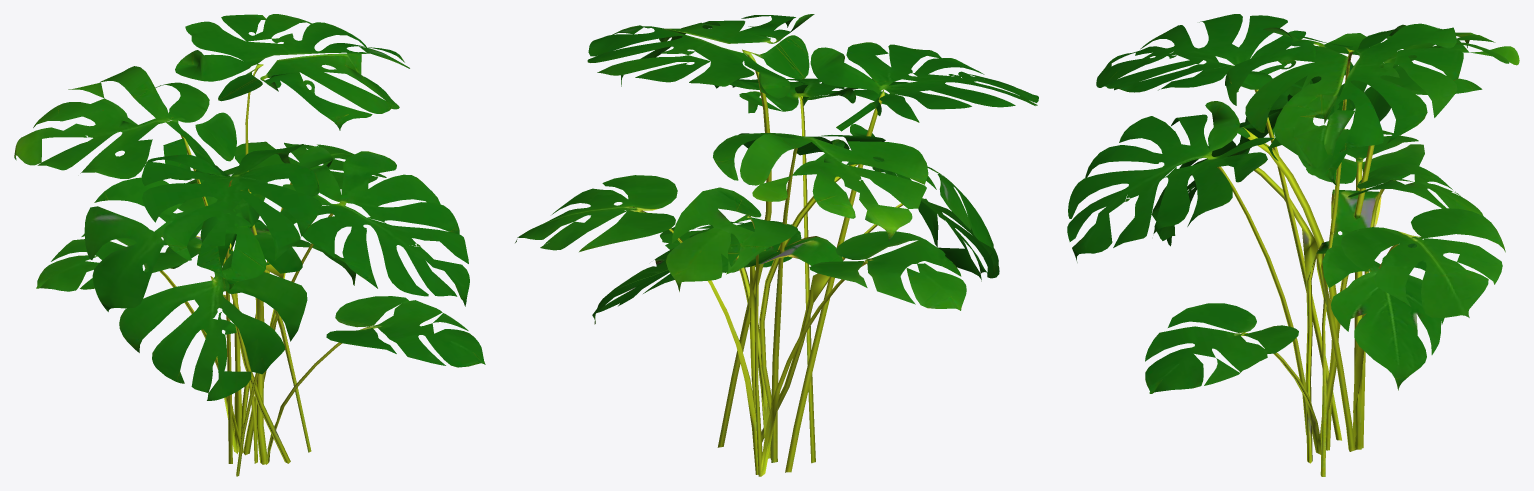
File: monsteraplant_2.full.glb
3 renders of one model, left to right at view 1: azimuth 30°, elevation 25°; view 2: azimuth 150°, elevation 25°; view 3: azimuth 270°, elevation 25°, orthographic. The views are drawn at different scales.
Visible parts, largest first — view 1: model; view 2: model; view 3: model.
Boxes of the visible parts, x1,y1,x2,y2 form: model: (14, 14, 485, 476); model: (515, 14, 1038, 476); model: (1067, 14, 1519, 476).
Bounding box in the file's own units: 0.9761 × 0.9995 × 0.9761.
1 material, 1 textured.
